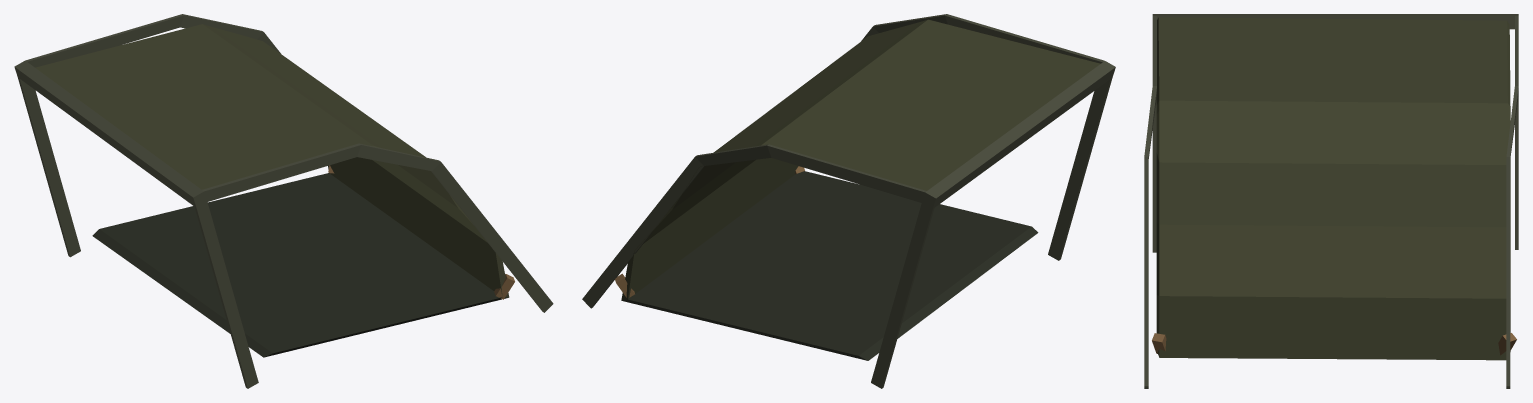
Rendered from tent.glb.
3 renders of one model, left to right at view 1: azimuth 30°, elevation 25°; view 2: azimuth 150°, elevation 25°; view 3: azimuth 270°, elevation 25°, orthographic. The views are drawn at different scales.
Visible parts, largest first — view 1: Cube.003, Cube.001; view 2: Cube.003, Cube.001; view 3: Cube.001, Cube.003.
Boxes of the visible parts, x1=… form: Cube.003: x1=14, y1=14, x2=553, y2=388; Cube.001: x1=35, y1=24, x2=509, y2=297; Cube.003: x1=582, y1=14, x2=1115, y2=388; Cube.001: x1=621, y1=19, x2=1100, y2=300; Cube.001: x1=1156, y1=17, x2=1510, y2=360; Cube.003: x1=1144, y1=14, x2=1518, y2=388.
Size of the model in its own units: 5.14 by 2.98 by 4.57.
1 material, 1 textured.
